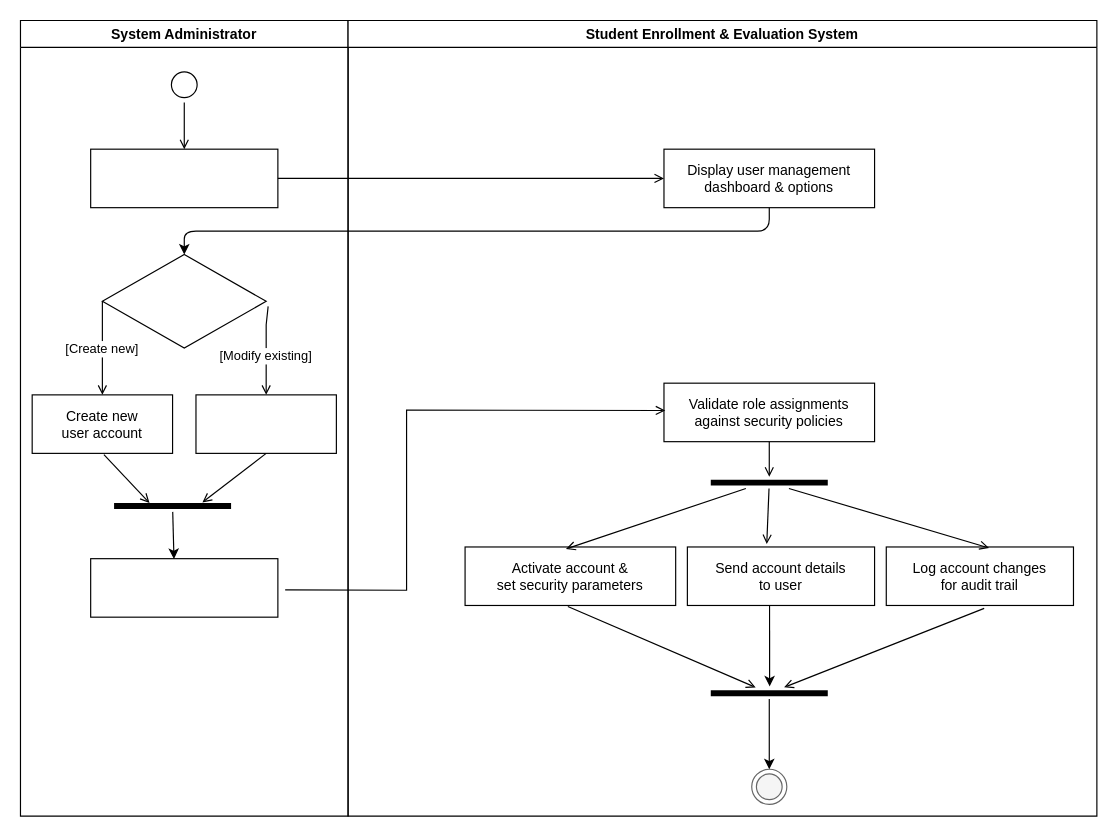
Image size: 1117x837. Some labels were removed from this diagram. Each missing label, with the centre of its shape:
"Access user management interface" goes at point 184,178.
"Assign roles & permissions" goes at point 184,587.
"Create new or modify existing?" goes at point 183,300.
"Select existing user account" goes at point 265,423.
